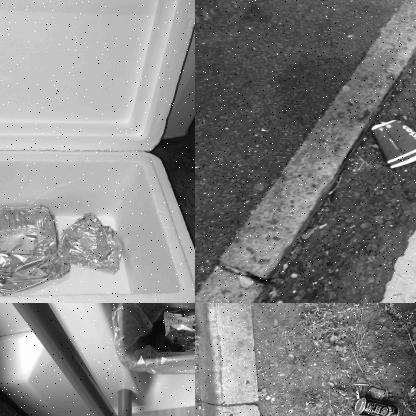metal: (0, 206, 70, 289), (65, 207, 123, 268), (354, 394, 405, 415)
plastic: (0, 150, 194, 302), (0, 0, 194, 150), (372, 118, 415, 174), (155, 303, 194, 351)
